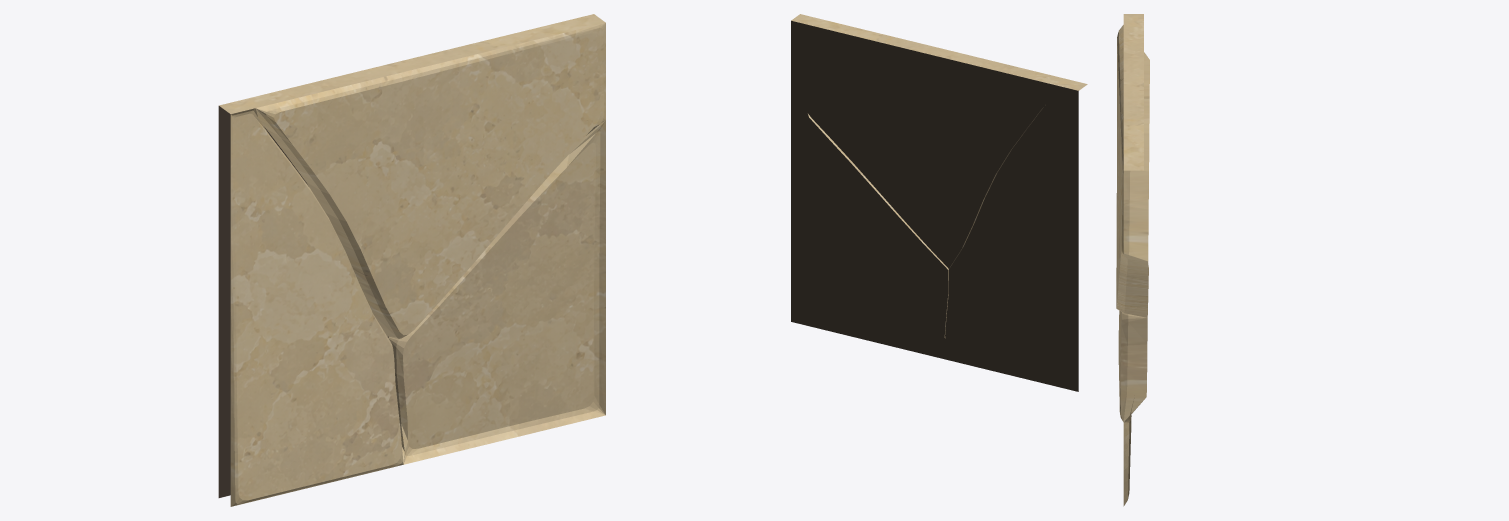
The model's file is ground_square_edge_05.glb.
The picture shows the model from 3 angles, left to right: view 1: azimuth 30°, elevation 25°; view 2: azimuth 150°, elevation 25°; view 3: azimuth 270°, elevation 25°; orthographic projection. The views are drawn at different scales.
Parts seen in each view (by area): view 1: GroundSquareEdge05_Body; view 2: GroundSquareEdge05_Body; view 3: GroundSquareEdge05_Body.
Boxes of the visible parts, box(x1,y1,x2,y2) form: GroundSquareEdge05_Body: box(218, 14, 605, 506); GroundSquareEdge05_Body: box(791, 14, 1087, 391); GroundSquareEdge05_Body: box(1116, 14, 1149, 506).
Bounding box in the file's own units: 1 × 1 × 1.02.
5 materials, 4 textured.
